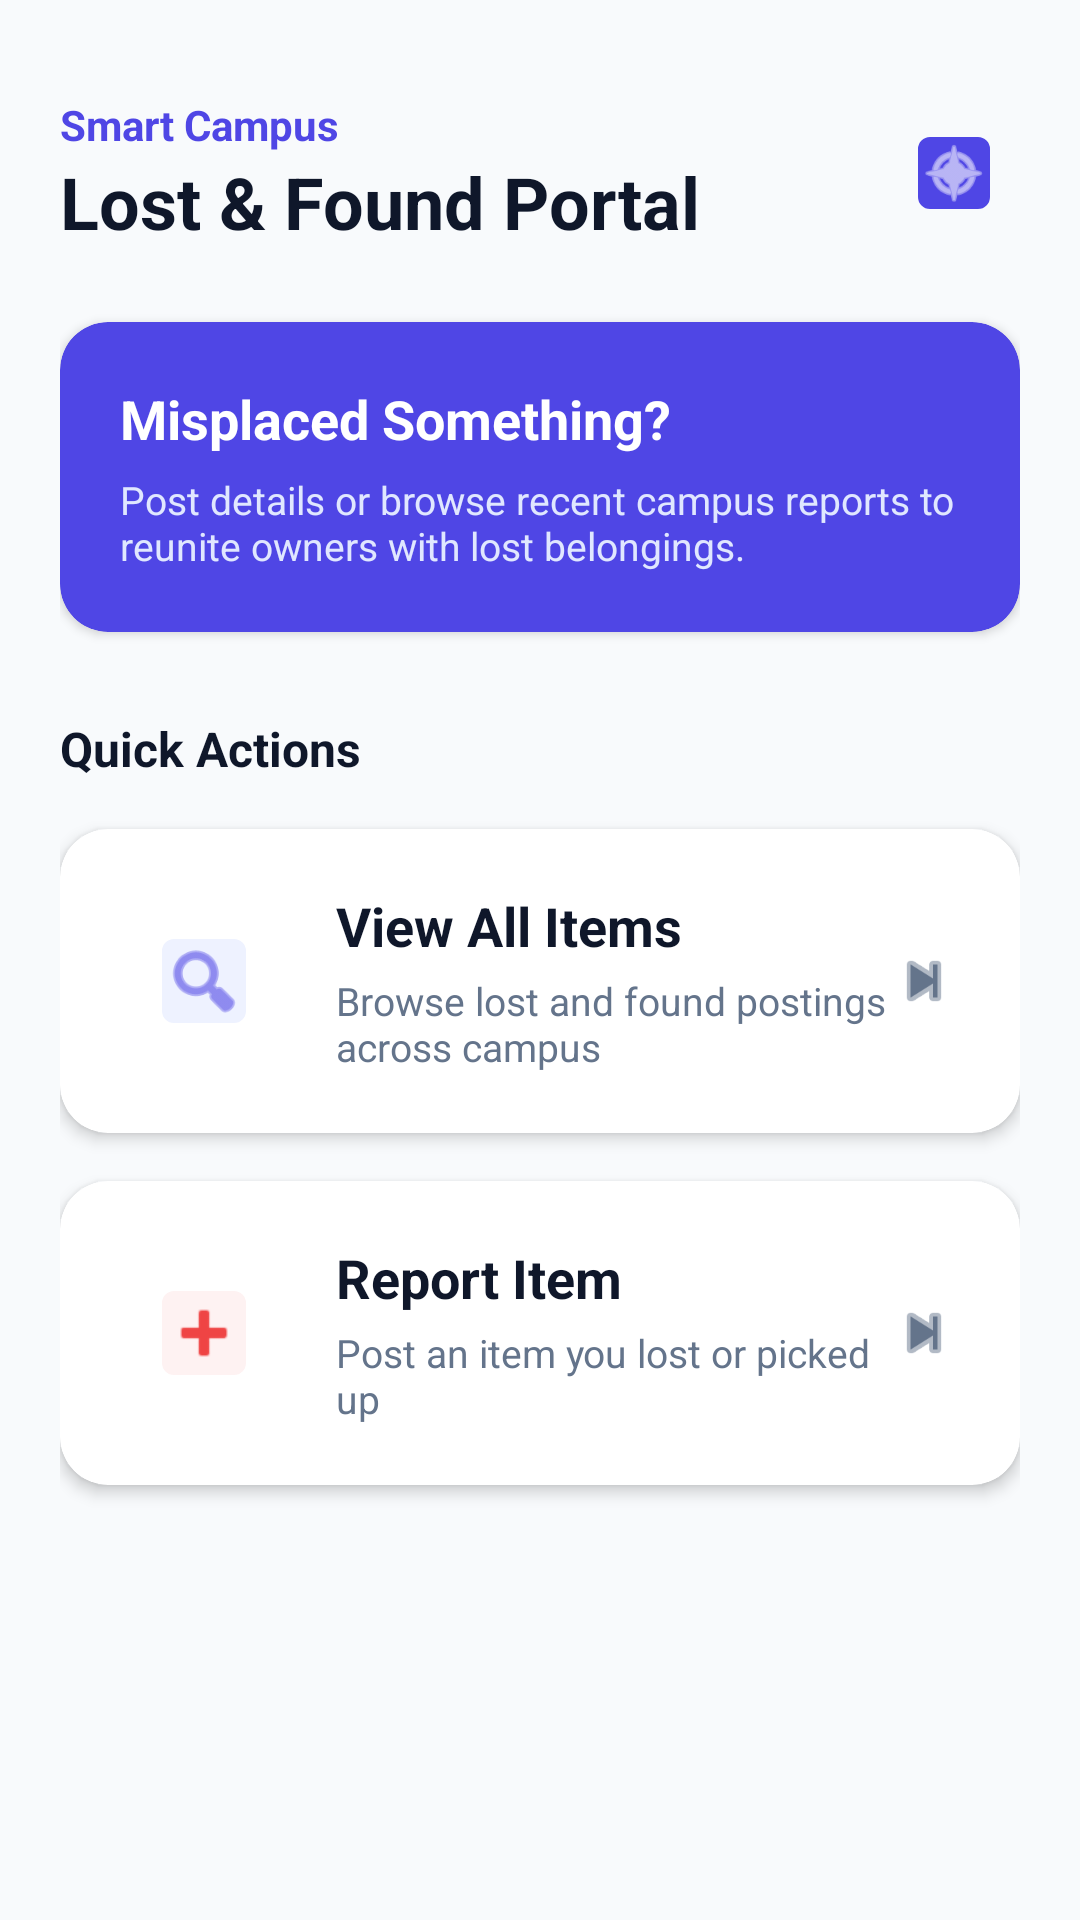

Named icons in this screenshot (1080 × 1920) and their centers, [x,y]:
add: [204,1333]
compass: [954,173]
next: [924,981], [924,1333]
search: [204,981]
